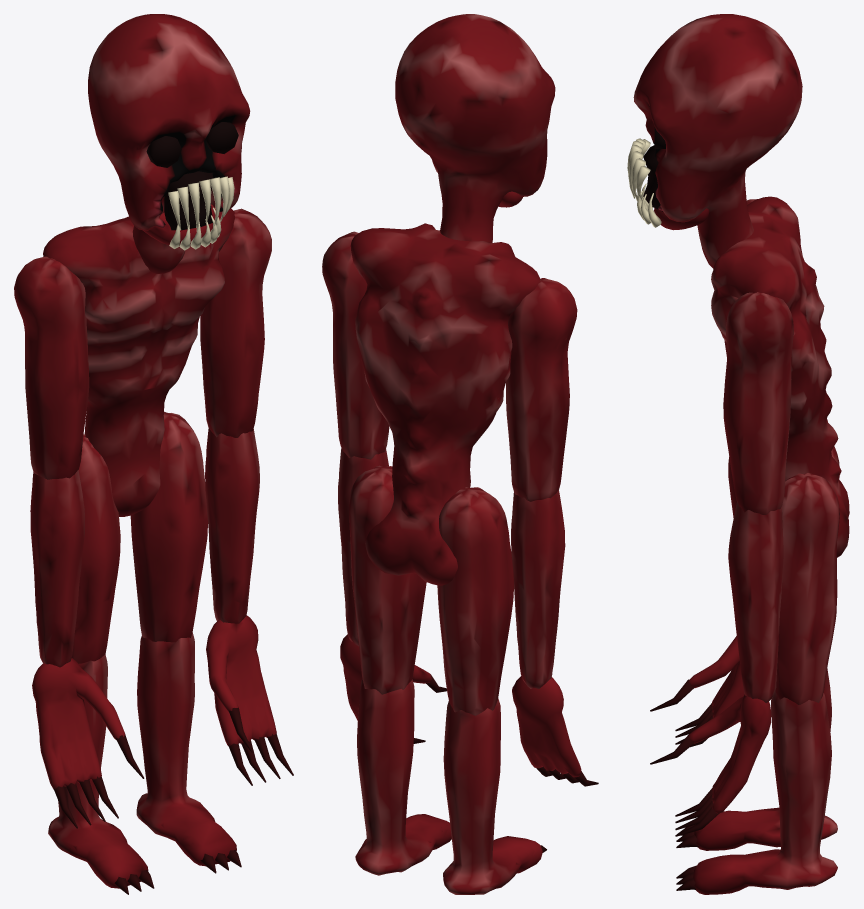
File: zumbi_sangue.glb
3 views of the same model, side by side, from view 1: azimuth 30°, elevation 25°; view 2: azimuth 150°, elevation 25°; view 3: azimuth 270°, elevation 25° (orthographic).
Visible parts, largest first — view 1: P_neck, P_chest, P_shR, P_hipL, P_kneeL, P_shL, P_handR, P_elL, P_elR, P_handL, P_hipR, P_kneeR (+1 smaller); view 2: P_chest, P_neck, P_hipR, P_shR, P_kneeR, P_kneeL, P_hipL, P_elR, P_shL, P_handR, P_elL, P_handL; view 3: P_neck, P_chest, P_shL, P_kneeL, P_hipL, P_elL, P_handL, P_kneeR, P_handR, P_jaw.
Boxes of the visible parts, bbox=[...] form: P_neck: bbox=[88, 14, 250, 273]; P_chest: bbox=[43, 208, 234, 516]; P_shR: bbox=[14, 256, 89, 479]; P_hipL: bbox=[130, 411, 207, 642]; P_kneeL: bbox=[136, 632, 241, 873]; P_shL: bbox=[200, 208, 271, 437]; P_handR: bbox=[32, 658, 144, 828]; P_elL: bbox=[205, 427, 259, 623]; P_elR: bbox=[30, 470, 84, 667]; P_handL: bbox=[206, 615, 293, 785]; P_hipR: bbox=[71, 434, 120, 663]; P_kneeR: bbox=[48, 654, 154, 894]; P_chest: bbox=[350, 223, 540, 585]; P_neck: bbox=[395, 14, 555, 242]; P_hipR: bbox=[437, 487, 513, 715]; P_shR: bbox=[506, 278, 577, 501]; P_kneeR: bbox=[443, 698, 546, 894]; P_kneeL: bbox=[355, 678, 451, 875]; P_hipL: bbox=[349, 465, 426, 694]; P_elR: bbox=[511, 490, 565, 688]; P_shL: bbox=[322, 231, 389, 459]; P_handR: bbox=[512, 676, 598, 786]; P_elL: bbox=[338, 447, 388, 646]; P_handL: bbox=[340, 634, 446, 743]; P_neck: bbox=[627, 14, 802, 268]; P_chest: bbox=[711, 196, 849, 557]; P_shL: bbox=[723, 292, 793, 514]; P_kneeL: bbox=[676, 691, 837, 894]; P_hipL: bbox=[775, 473, 839, 704]; P_elL: bbox=[728, 502, 783, 702]; P_handL: bbox=[650, 694, 771, 836]; P_kneeR: bbox=[676, 668, 837, 850]; P_handR: bbox=[650, 636, 744, 747]; P_jaw: bbox=[637, 183, 709, 230].
Size of the model in its own units: 0.6788 by 2.22 by 0.5274.
